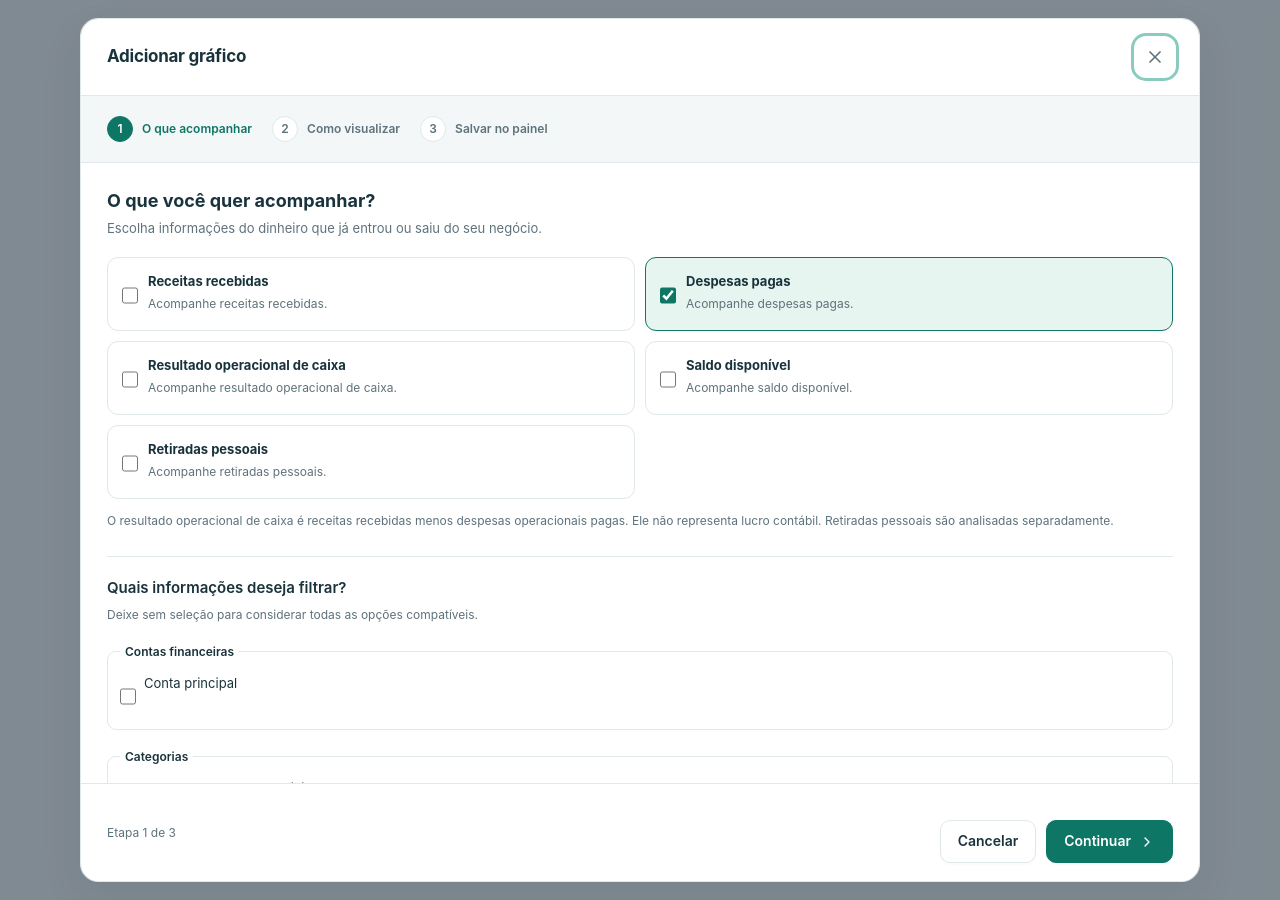
Test: chart builder › preserves entered information on save failure and exposes the error
Click the button "Continuar" at point(1110, 842), box [1046,820,1173,863]
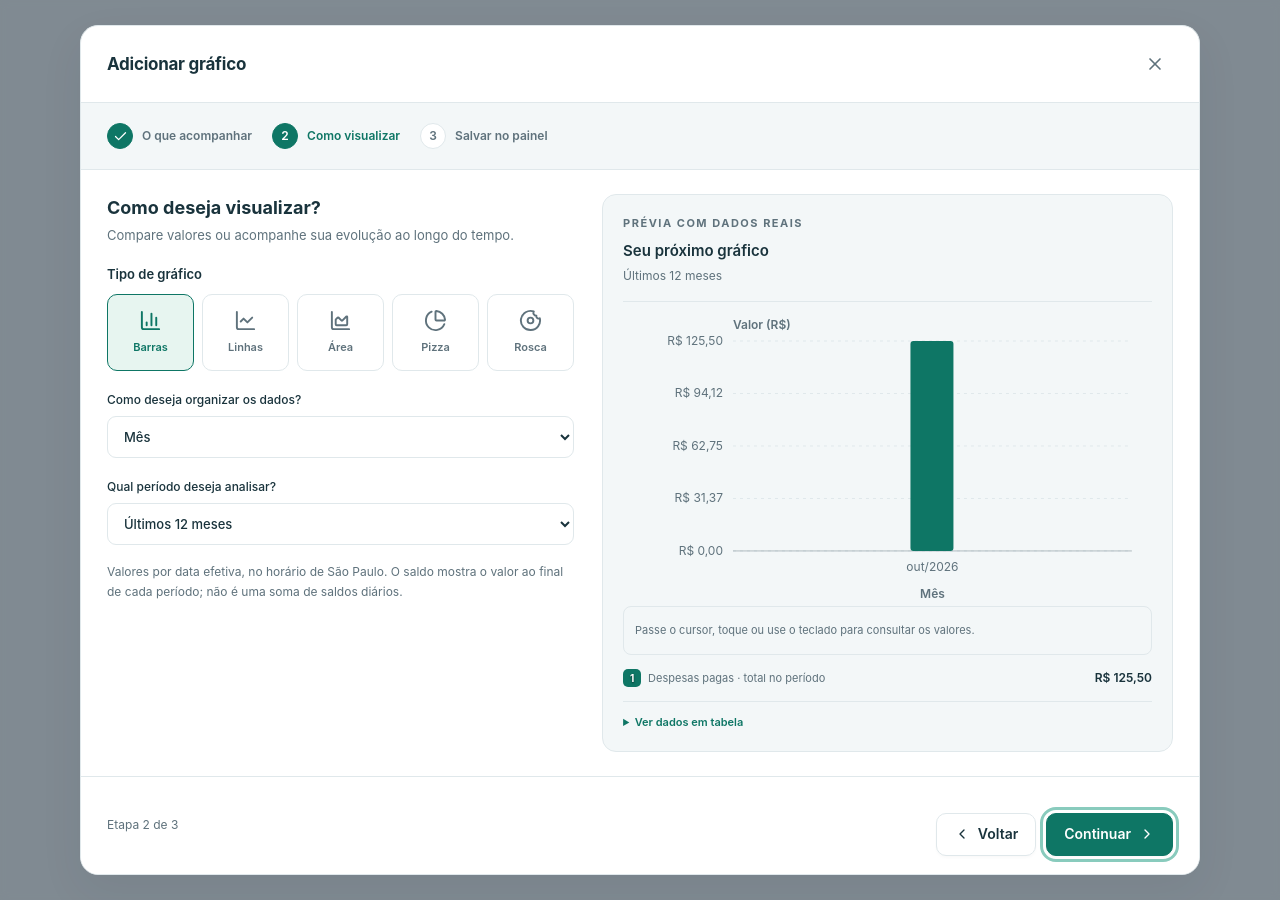
Click the button "Continuar" at point(1110, 834), box [1046,813,1173,856]
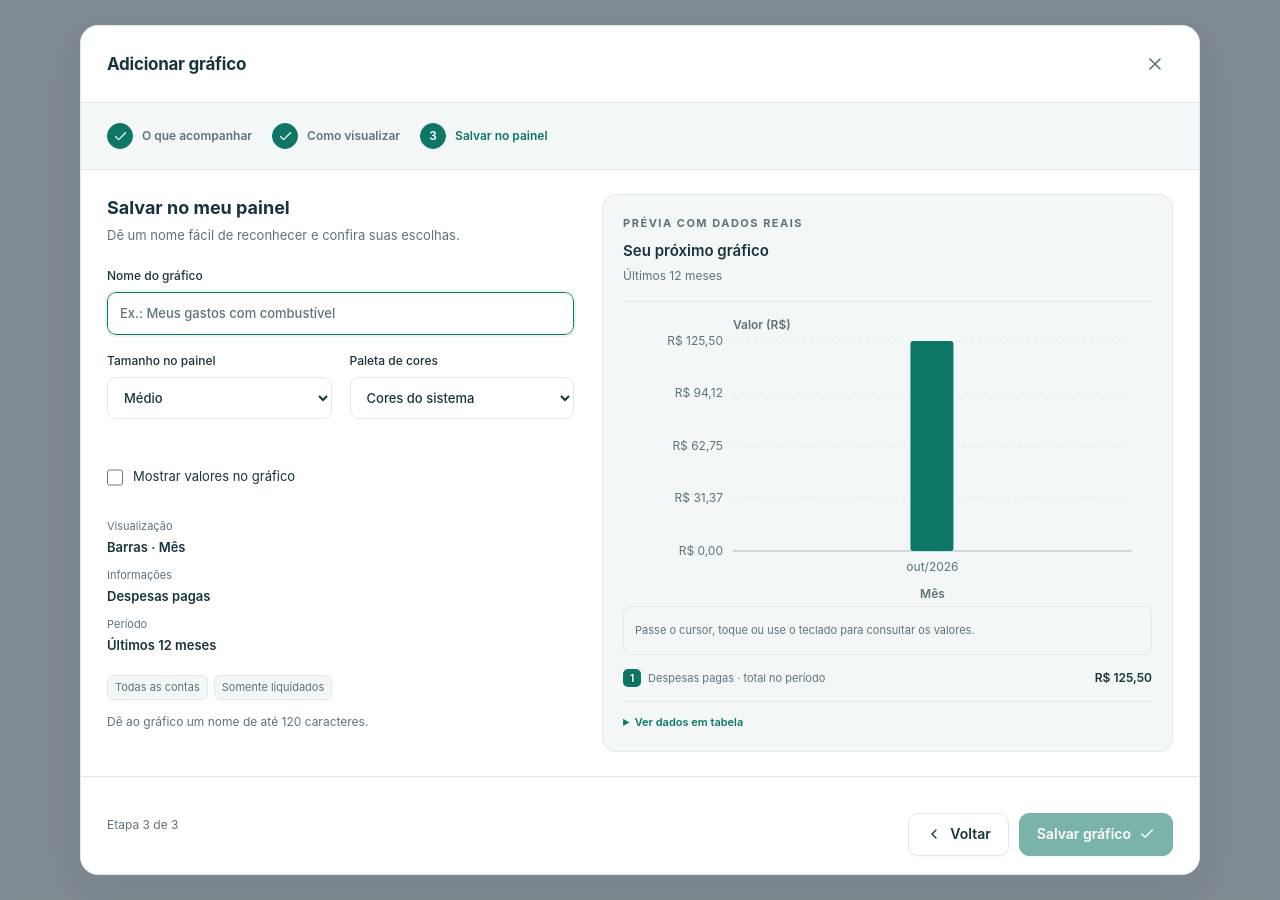
Type "Meu controle" into the field named "Título do gráfico" at point(341, 314), box [107,292,574,335]
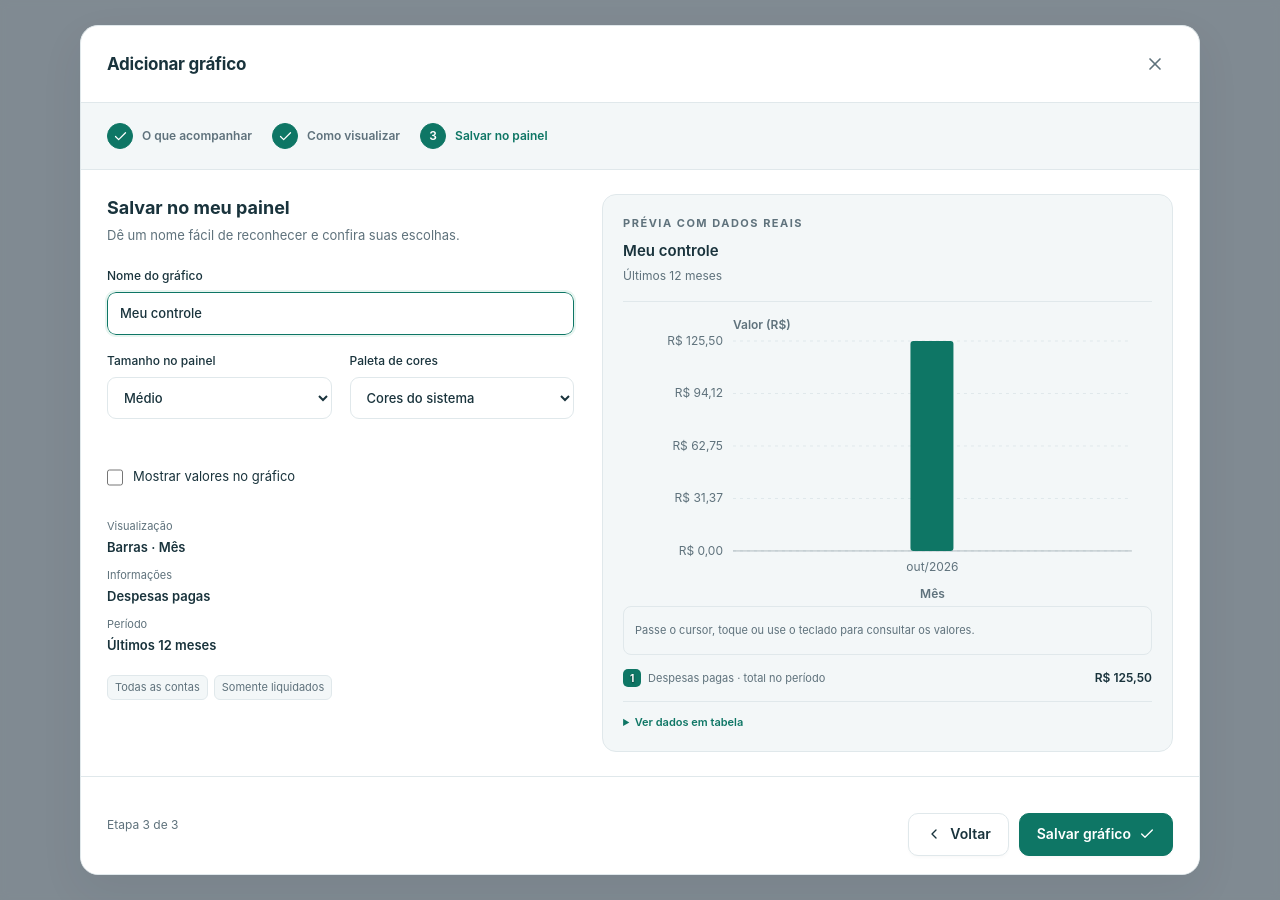
Click the button "Salvar gráfico" at point(1096, 834), box [1019,813,1173,856]
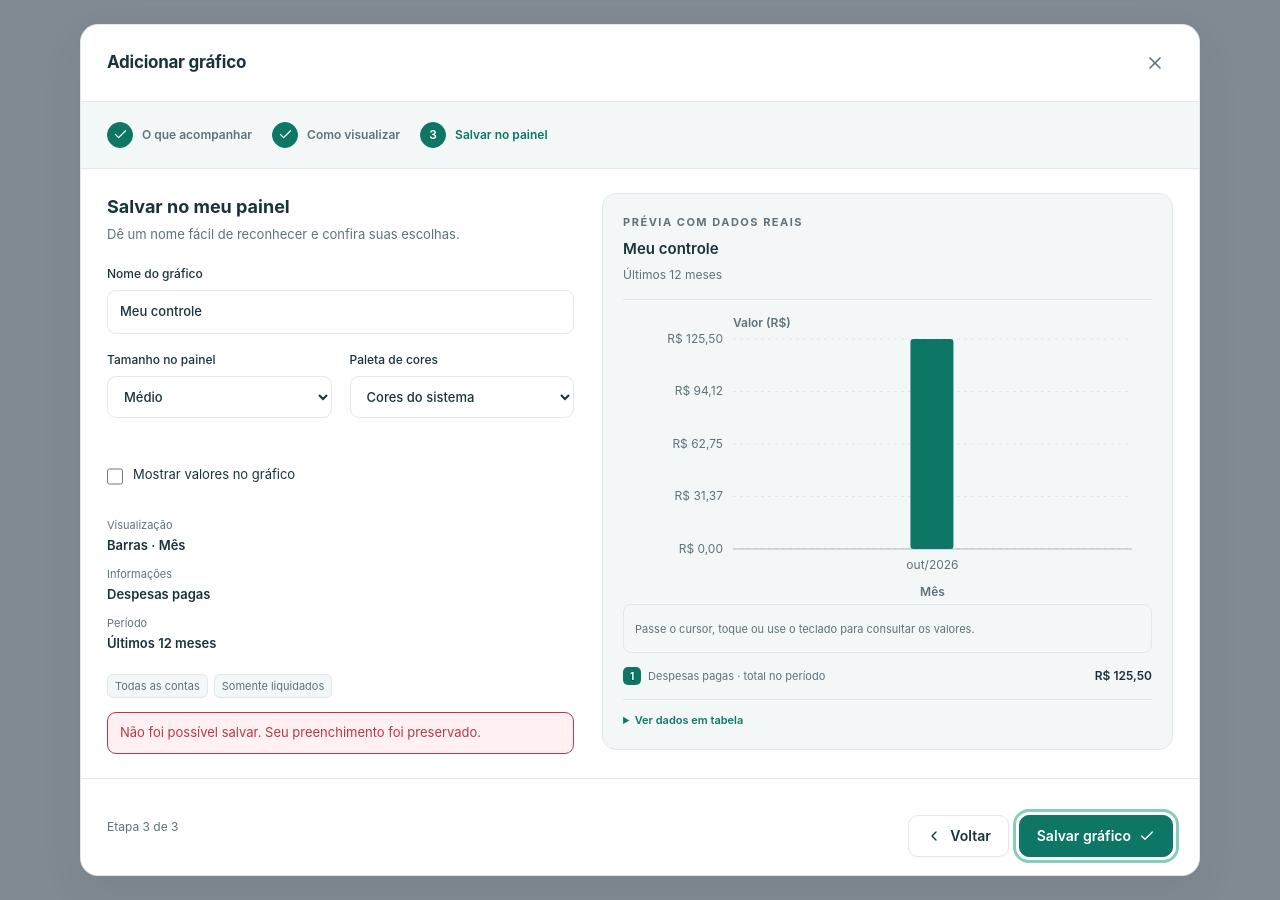
Check: the message "Não foi possível salvar. Seu preenchimento foi preservado." is shown, box [107,712,574,754]
